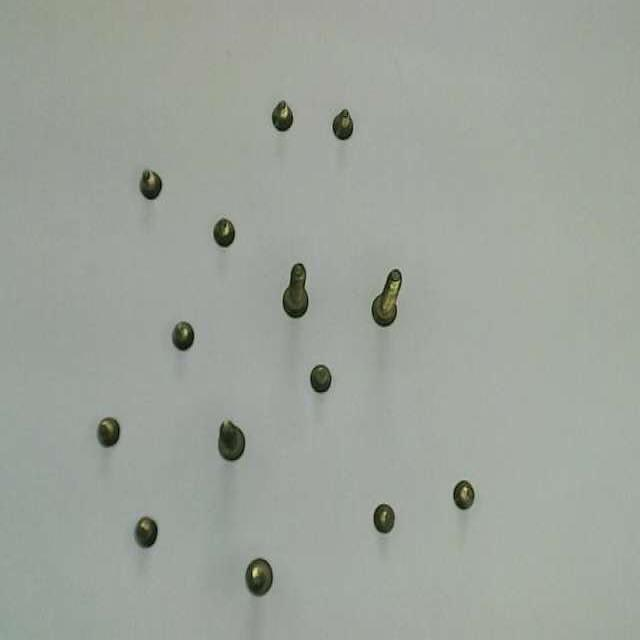Parafuso: (372, 270, 401, 326), (283, 263, 308, 317), (218, 420, 244, 461), (245, 558, 272, 595), (134, 516, 157, 547), (97, 416, 119, 446), (272, 100, 293, 131), (453, 480, 474, 510), (172, 322, 194, 350), (332, 110, 353, 139), (140, 170, 161, 199), (310, 364, 331, 393), (373, 504, 394, 533), (213, 218, 234, 246)
